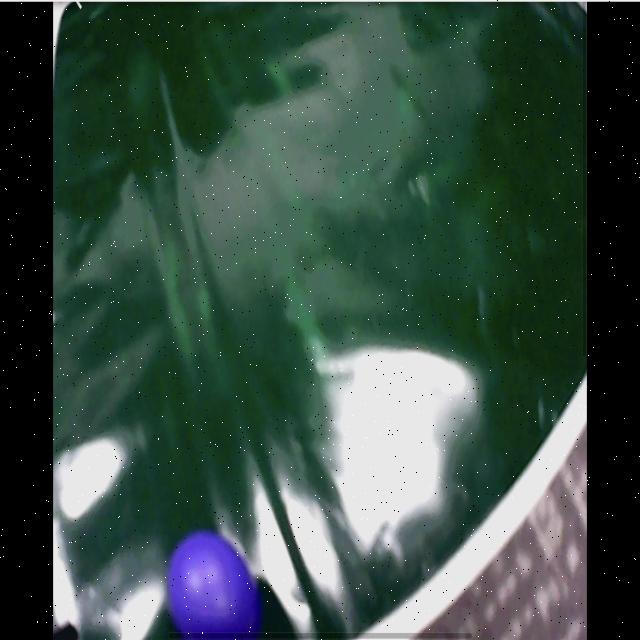ball: (168, 534, 252, 640)
